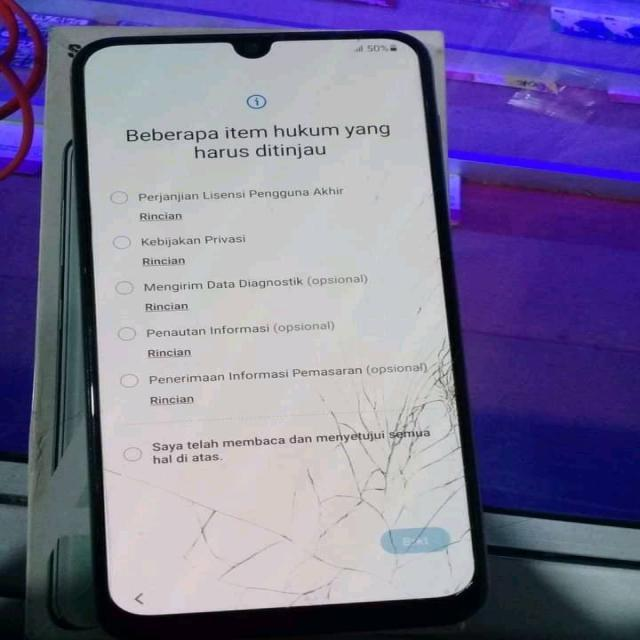phone: (63, 27, 484, 616)
